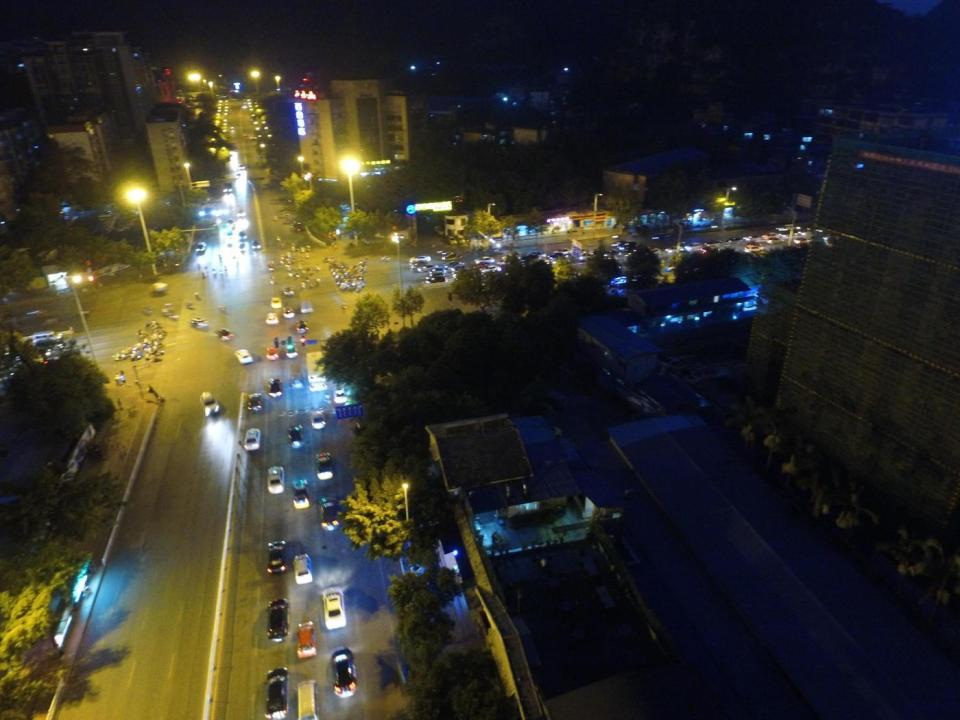bus: (304, 351, 328, 393)
car: (330, 647, 358, 698), (263, 666, 287, 720), (321, 585, 347, 631), (294, 621, 318, 662), (267, 599, 289, 641), (319, 496, 343, 533), (292, 552, 314, 586), (268, 540, 286, 574), (266, 465, 286, 494), (200, 390, 220, 418), (315, 452, 333, 481), (292, 479, 309, 509), (244, 427, 262, 452), (288, 423, 304, 449), (267, 377, 284, 399), (309, 409, 327, 429), (234, 348, 254, 365), (331, 384, 348, 402), (214, 327, 234, 342), (248, 392, 262, 413), (425, 272, 447, 285), (289, 371, 303, 390), (415, 263, 439, 273), (265, 345, 280, 361), (479, 263, 502, 273), (285, 344, 300, 358), (189, 318, 209, 328), (553, 246, 572, 256), (501, 253, 522, 262), (744, 245, 764, 254), (408, 255, 433, 262), (296, 320, 308, 334), (683, 242, 701, 251), (644, 247, 662, 256), (578, 252, 596, 261), (548, 252, 566, 261), (793, 237, 813, 245), (474, 256, 494, 264), (195, 241, 208, 253), (282, 286, 295, 298), (270, 296, 283, 308), (282, 307, 295, 319), (442, 253, 464, 260), (301, 300, 312, 314), (472, 261, 491, 269), (427, 267, 446, 275), (699, 246, 720, 253), (443, 261, 464, 268), (266, 313, 278, 325), (761, 232, 784, 238), (665, 245, 682, 253), (528, 251, 547, 258), (237, 231, 248, 242), (222, 181, 232, 193), (250, 240, 262, 250), (724, 237, 743, 243), (741, 234, 759, 240), (704, 240, 724, 245), (236, 209, 247, 218), (746, 241, 762, 247), (766, 238, 785, 243)
van: (294, 679, 319, 720), (31, 330, 64, 346)
